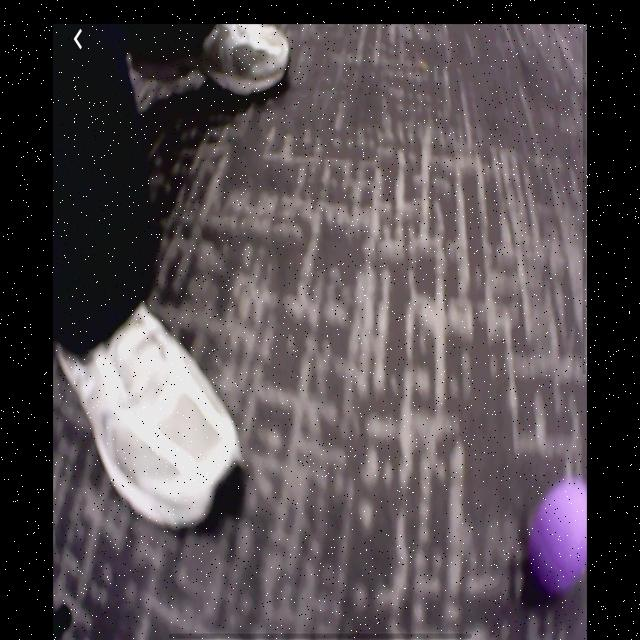ball: (531, 482, 587, 592)
